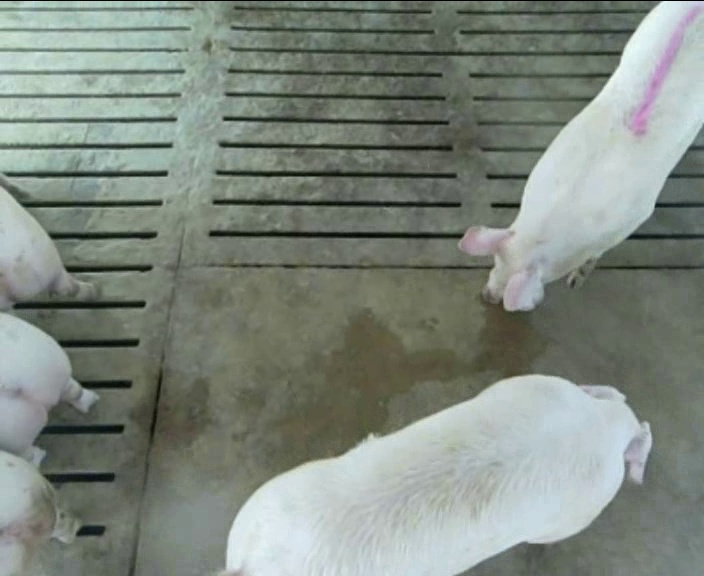pig: (226, 375, 651, 574), (459, 2, 703, 310)
